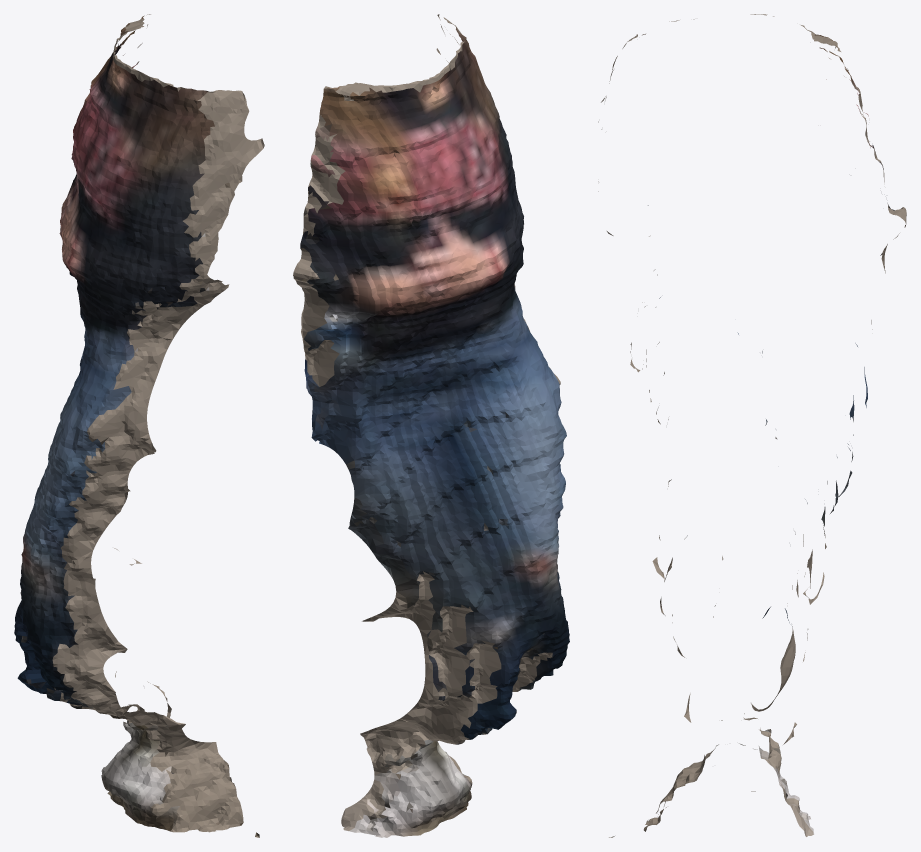
3 views of the same model, side by side, from view 1: azimuth 30°, elevation 25°; view 2: azimuth 150°, elevation 25°; view 3: azimuth 270°, elevation 25° (orthographic). The views are drawn at different scales.
Size of the model in its own units: 0.3259 by 1.3 by 0.4625.
1 material, 1 textured.
